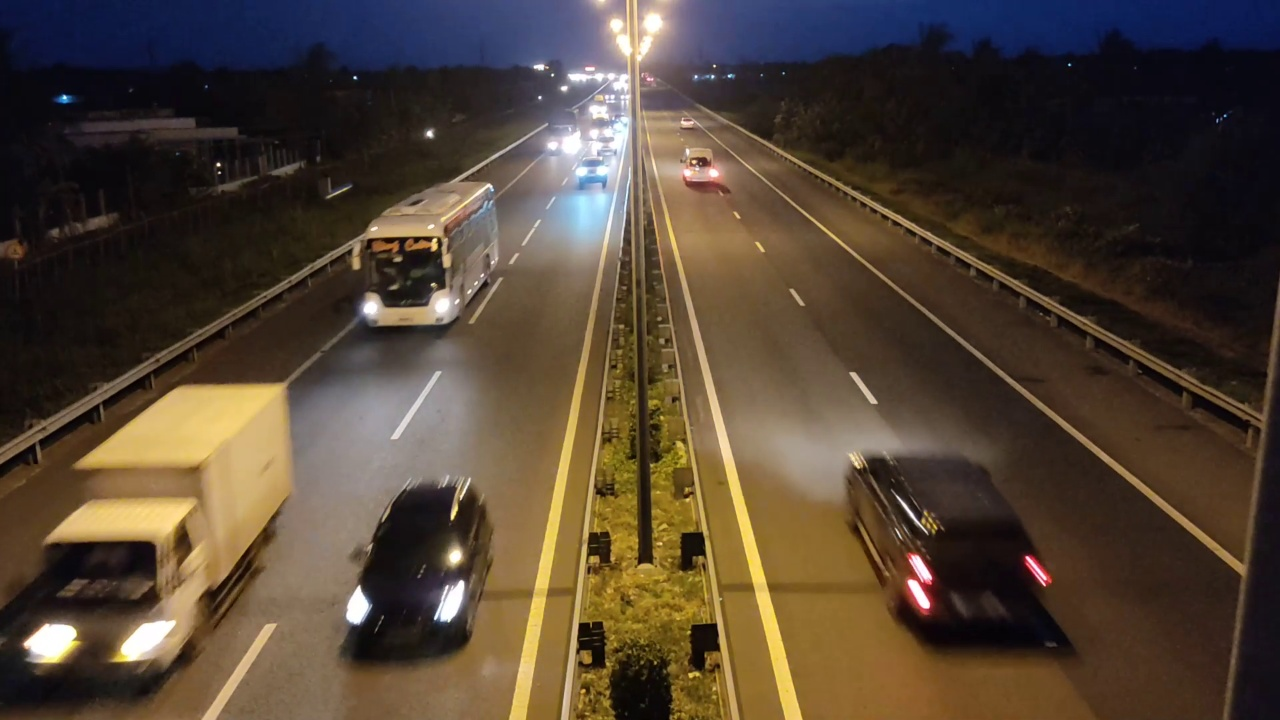bus: (357, 180, 500, 329)
car: (841, 447, 1064, 647), (341, 473, 495, 659), (573, 157, 611, 190)
truck: (1, 380, 297, 696)
